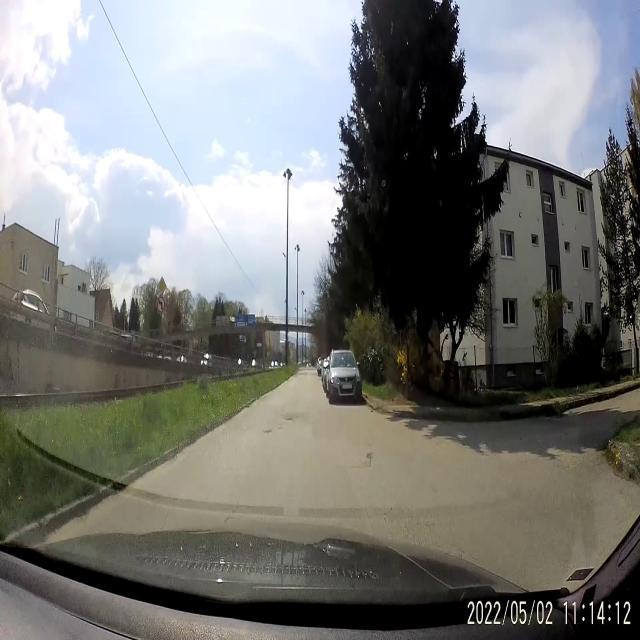Pothole: (358, 447, 376, 470), (281, 410, 298, 423), (261, 424, 274, 435), (278, 425, 282, 433)
